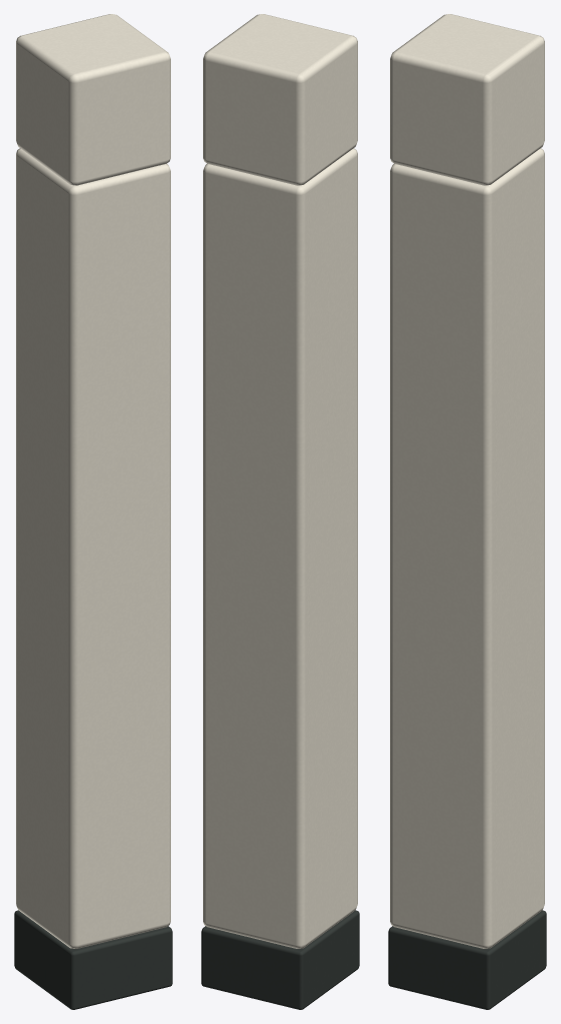
Rendered from wall-end.glb.
3 renders of one model, left to right at view 1: azimuth 30°, elevation 25°; view 2: azimuth 150°, elevation 25°; view 3: azimuth 330°, elevation 25°, orthographic.
Visible parts, largest first — view 1: wall_body, wall_band, wall_plinth; view 2: wall_body, wall_band, wall_plinth; view 3: wall_body, wall_band, wall_plinth.
Part boxes in pixels (left/top/right/bottom): wall_body: left=16, top=148, right=170, bottom=948; wall_band: left=16, top=14, right=170, bottom=185; wall_plinth: left=14, top=910, right=172, bottom=1009; wall_body: left=203, top=148, right=357, bottom=948; wall_band: left=203, top=14, right=357, bottom=185; wall_plinth: left=201, top=910, right=359, bottom=1009; wall_body: left=390, top=148, right=544, bottom=948; wall_band: left=390, top=14, right=544, bottom=185; wall_plinth: left=388, top=910, right=546, bottom=1009.
Bounding box in the file's own units: 0.4 × 3.5 × 0.4.
2 materials, 2 textured.
